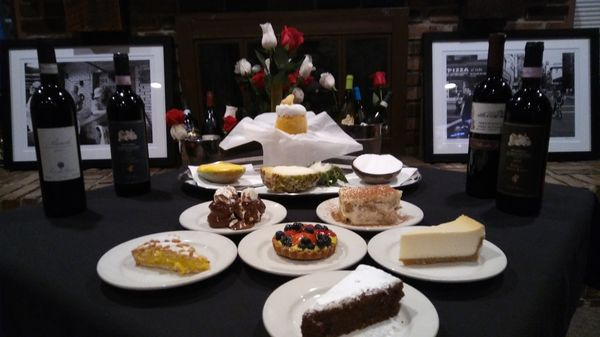sushi: (351, 154, 404, 185), (194, 161, 247, 185)
